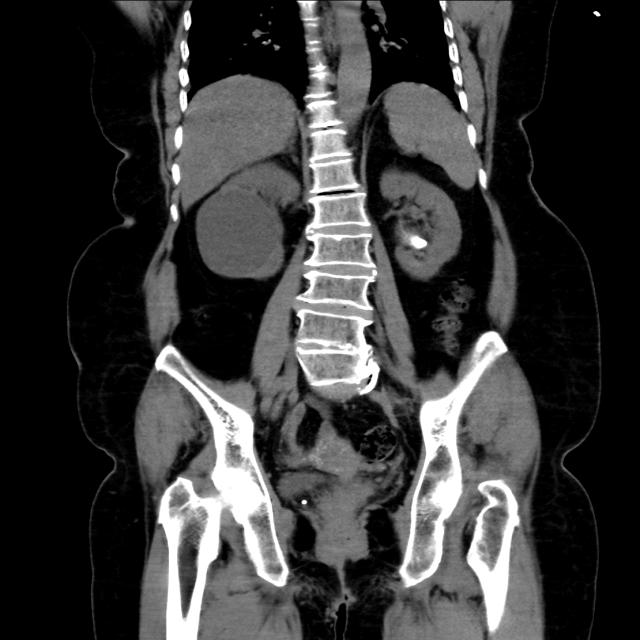kidneystone: (410, 235, 428, 248)
